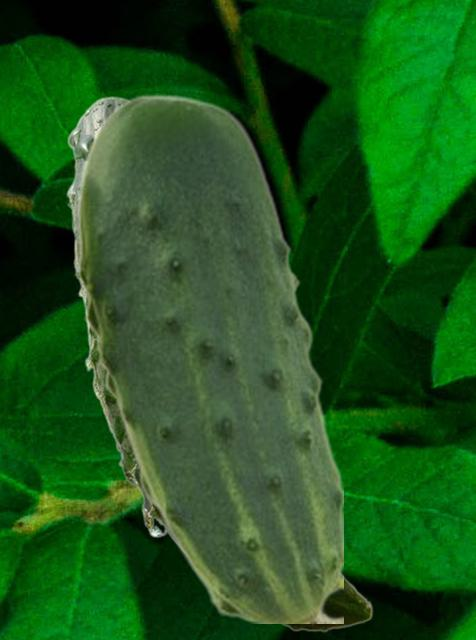cucumber: (65, 96, 372, 631), (77, 93, 342, 622)
